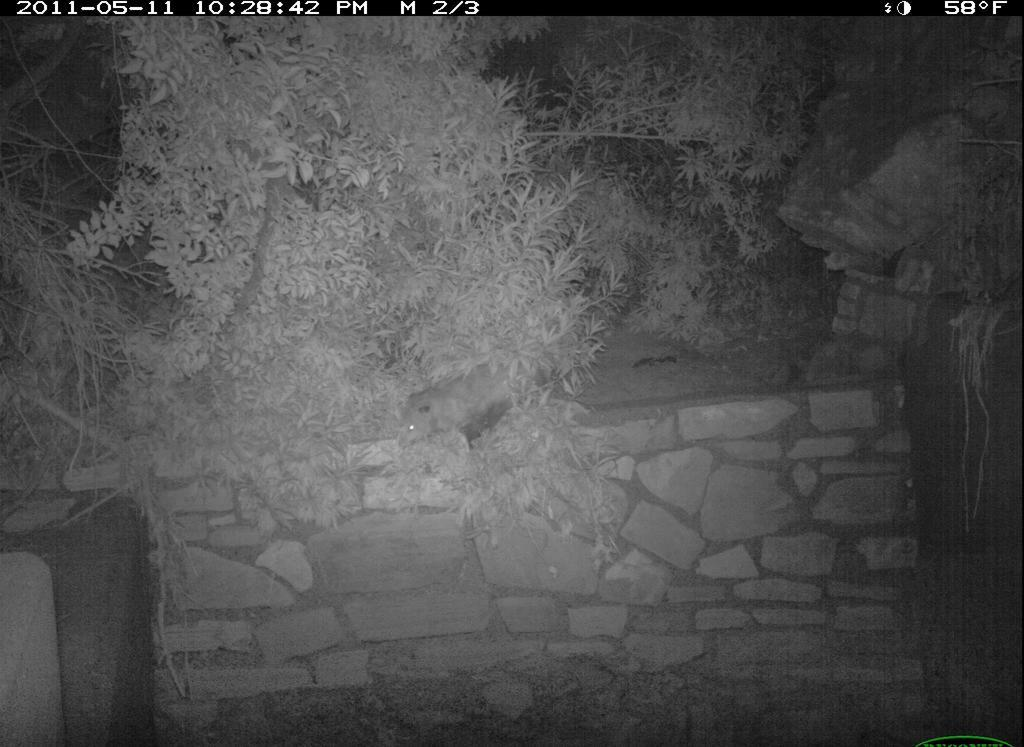opossum: (370, 327, 577, 466)
